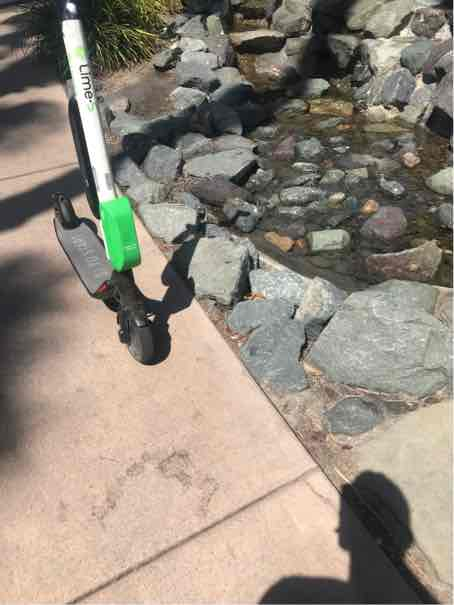scooter: (9, 1, 197, 377)
